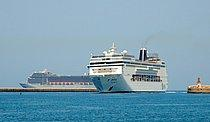Ship: (85, 44, 174, 96), (18, 68, 99, 94)
